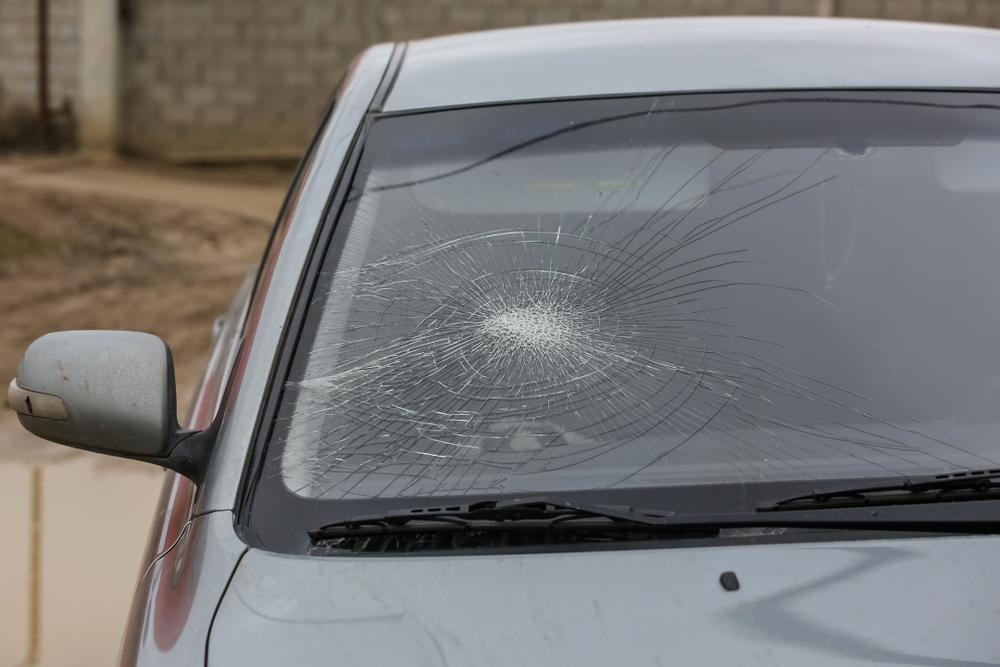glass shatter: (259, 91, 1000, 534)
